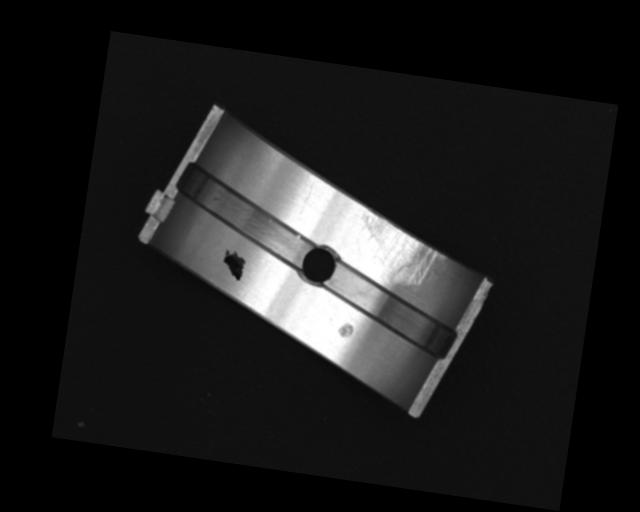blot: (219, 247, 248, 281)
bruise: (337, 320, 355, 339)
gap: (167, 164, 327, 271), (316, 259, 468, 360)
hole: (294, 239, 341, 290)
nick: (296, 177, 316, 217)
scratch: (352, 207, 453, 292)
